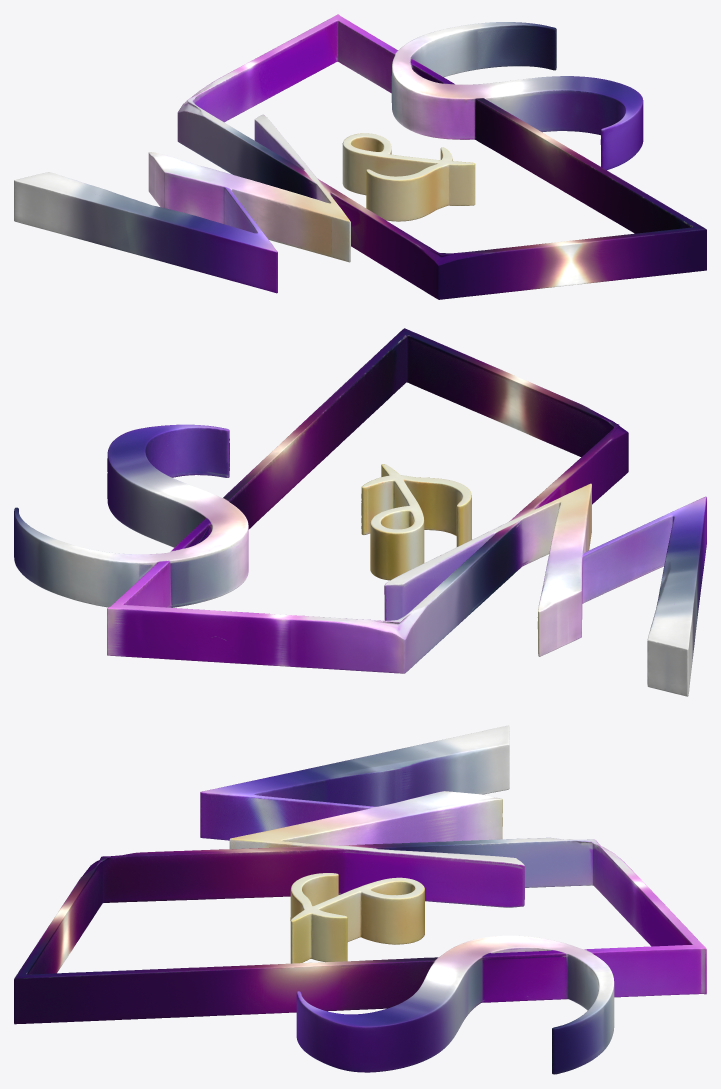
Rendered from Meshy_AI_Neon_Orbit_0712081408_texture.glb.
The picture shows the model from 3 angles, top to bottom: view 1: azimuth 30°, elevation 25°; view 2: azimuth 150°, elevation 25°; view 3: azimuth 270°, elevation 25°; orthographic projection. The views are drawn at different scales.
Size of the model in its own units: 1.9 by 0.1349 by 1.83.
Materials: 1 (1 with a texture image).
